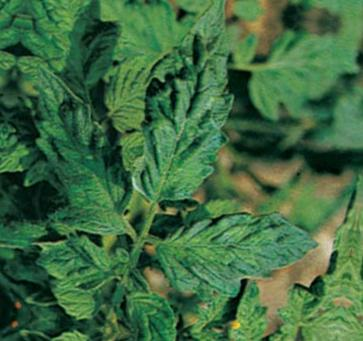Tomato leaf mosaic virus: (119, 0, 250, 208), (12, 69, 156, 243), (151, 190, 314, 310), (12, 0, 125, 99), (26, 229, 135, 289), (113, 278, 183, 341)
